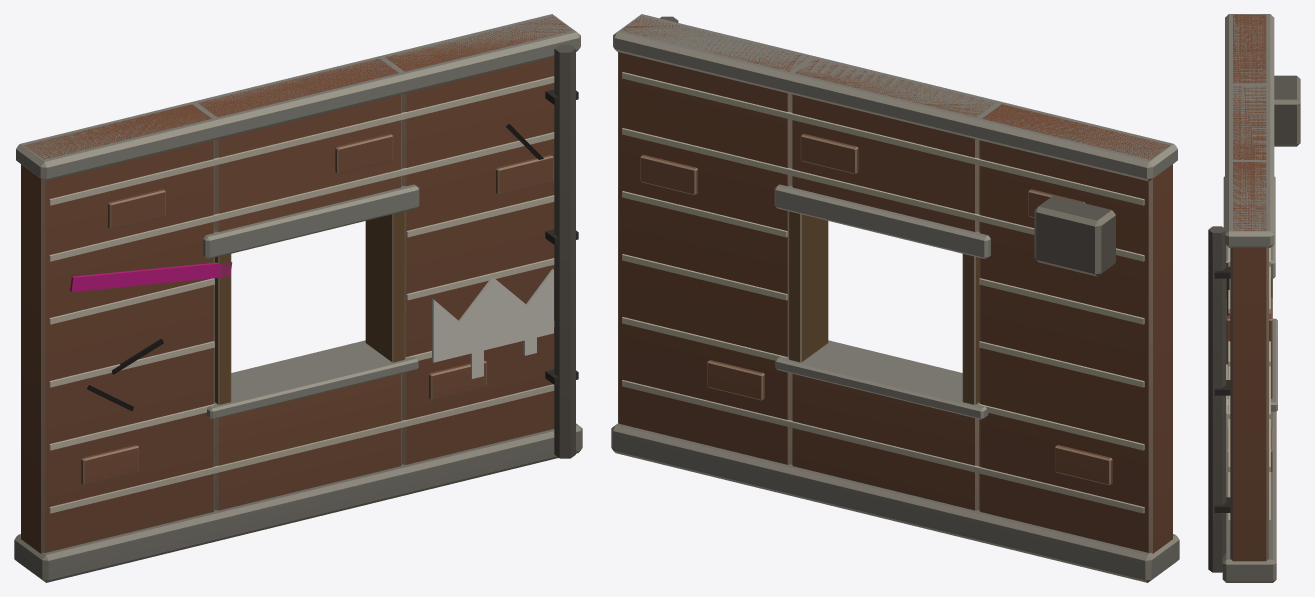
Rendered from b_wall_window.glb.
The picture shows the model from 3 angles, left to right: view 1: azimuth 30°, elevation 25°; view 2: azimuth 150°, elevation 25°; view 3: azimuth 270°, elevation 25°; orthographic projection. The views are drawn at different scales.
Visible parts, largest first — view 1: b_wall_window; view 2: b_wall_window; view 3: b_wall_window.
Part boxes in pixels (x1,y1,x2,y2): b_wall_window: (14, 14, 582, 582); b_wall_window: (611, 14, 1179, 582); b_wall_window: (1208, 14, 1300, 582).
Size of the model in its own units: 4.04 by 3 by 0.715.
